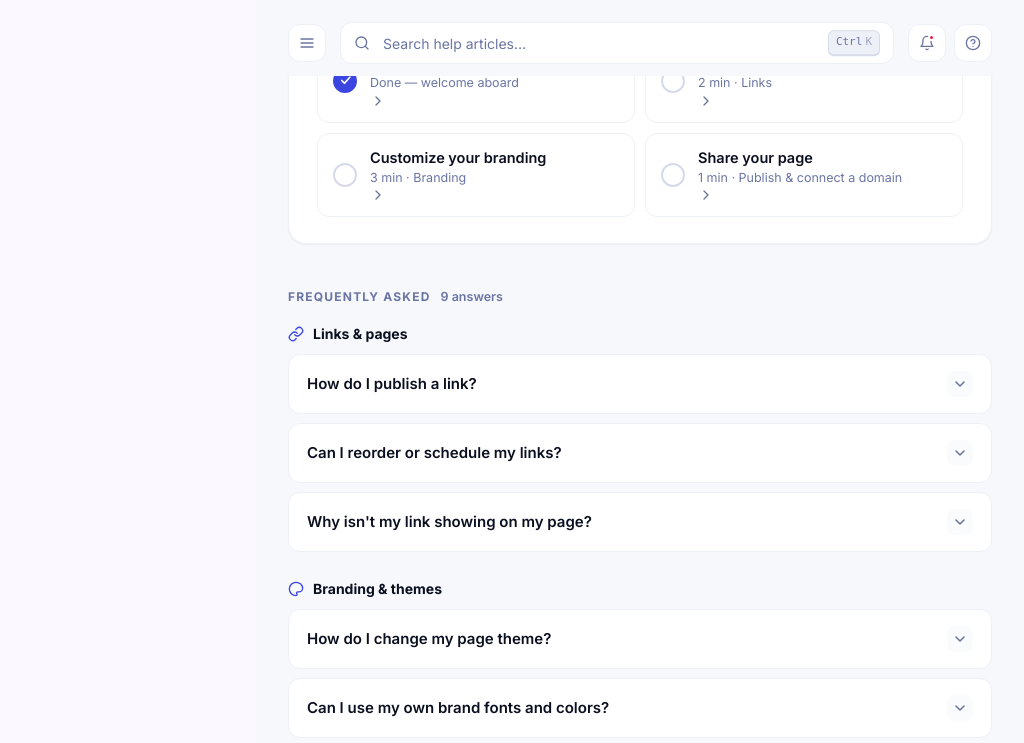
Test case: HelpClient › expands a FAQ row on click
The image size is (1024, 743).
(page scrolled)
What coordinates should you click on to do the following:
click the button "How do I publish a link?"
I would click on:
 (392, 383)
Its box is [289,355,991,413].
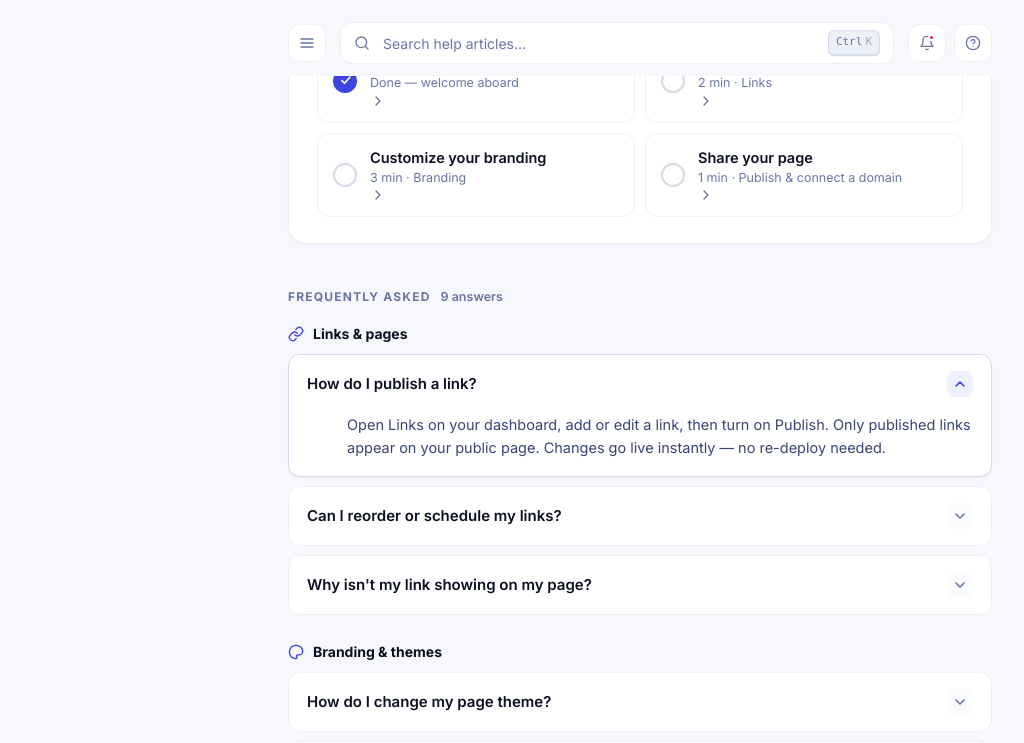
Result: the button "How do I publish a link?" is expanded at [289,355,991,413]
Result: the text "Only published links appear" is shown at [347,416,971,456]
